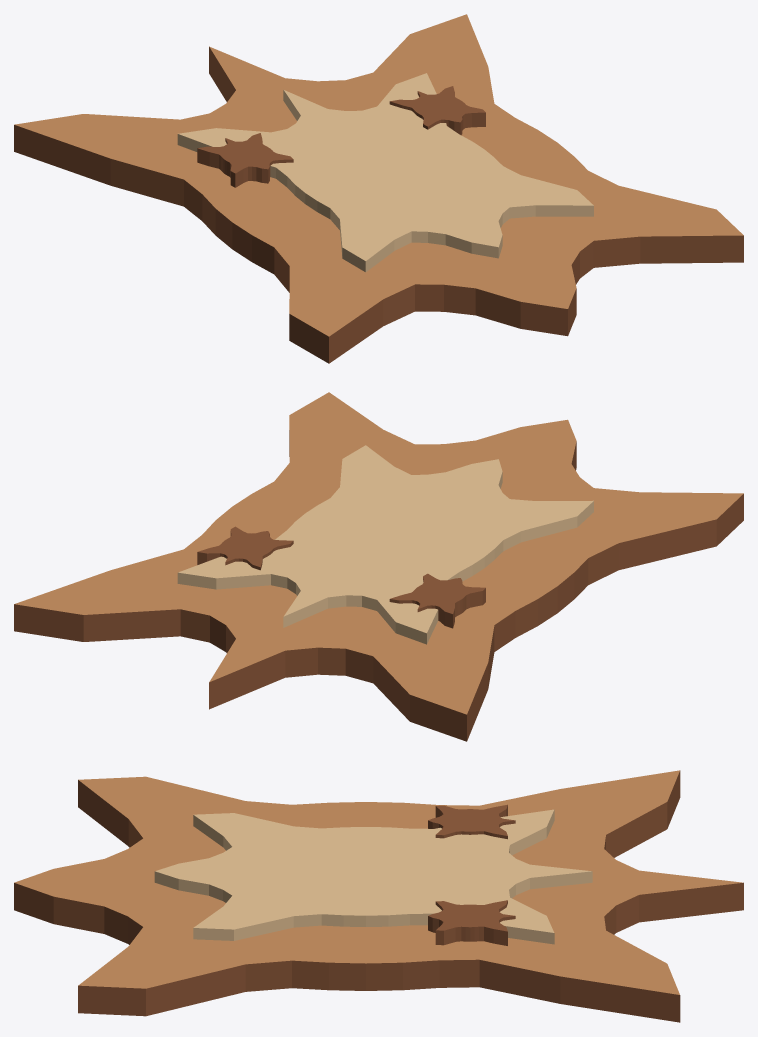
Rendered from Res_Hide.fbx.
3 renders of one model, top to bottom at view 1: azimuth 30°, elevation 25°; view 2: azimuth 150°, elevation 25°; view 3: azimuth 270°, elevation 25°, orthographic.
Parts seen in each view (by area): view 1: Res_Hide; view 2: Res_Hide; view 3: Res_Hide.
Boxes of the visible parts, x1,y1,x2,y2 form: Res_Hide: (14,14,743,363); Res_Hide: (14,392,743,741); Res_Hide: (14,770,743,1022).
Size of the model in its own units: 0.612 by 0.0535 by 0.84.
